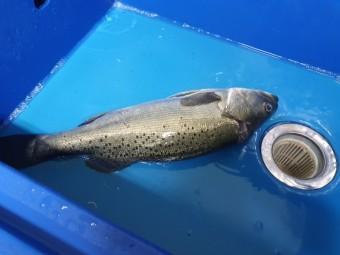fish: (0, 88, 277, 172)
